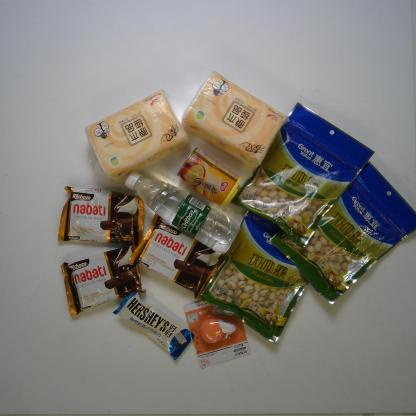Canned Food: (176, 147, 243, 208)
Chocolate: (112, 291, 195, 361)
Dessert: (128, 213, 227, 300), (59, 244, 146, 317), (57, 186, 144, 246)
Dried Fruit: (230, 101, 375, 248), (269, 161, 416, 305), (200, 210, 310, 345)
Drink: (124, 170, 240, 254)
Stationery: (183, 300, 252, 369)
Tissue: (180, 70, 287, 171), (85, 89, 190, 183)
